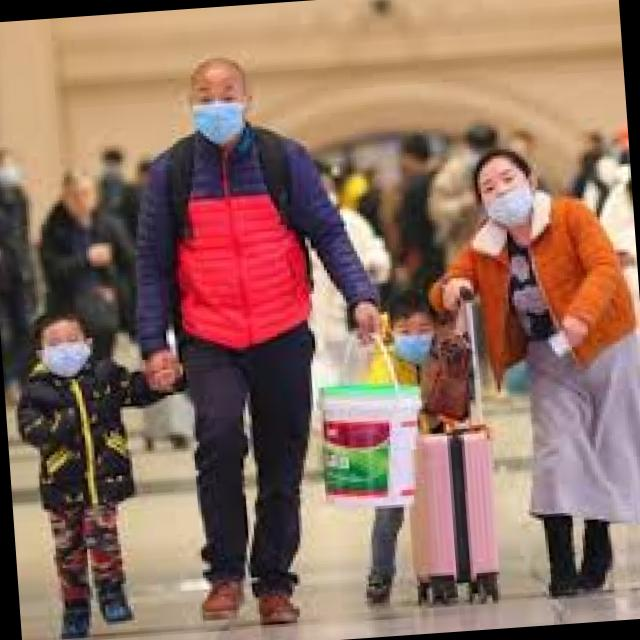Jacket: (107, 98, 366, 391), (423, 182, 640, 404), (5, 343, 168, 522), (34, 204, 142, 344)
